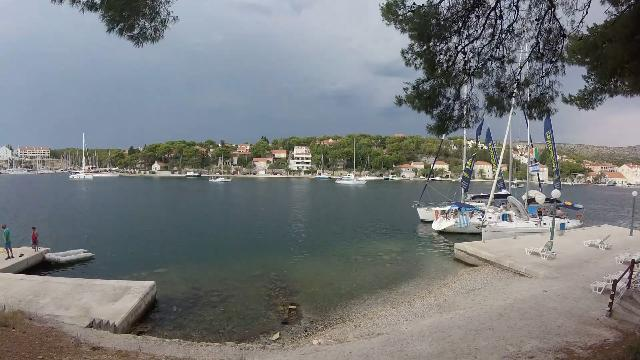Sailboat: (332, 172, 370, 187), (67, 170, 97, 182), (207, 173, 236, 183)
